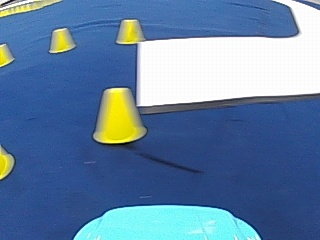cone: (92, 86, 145, 143), (115, 18, 146, 44), (48, 27, 75, 53), (0, 150, 14, 177), (0, 43, 14, 66)
